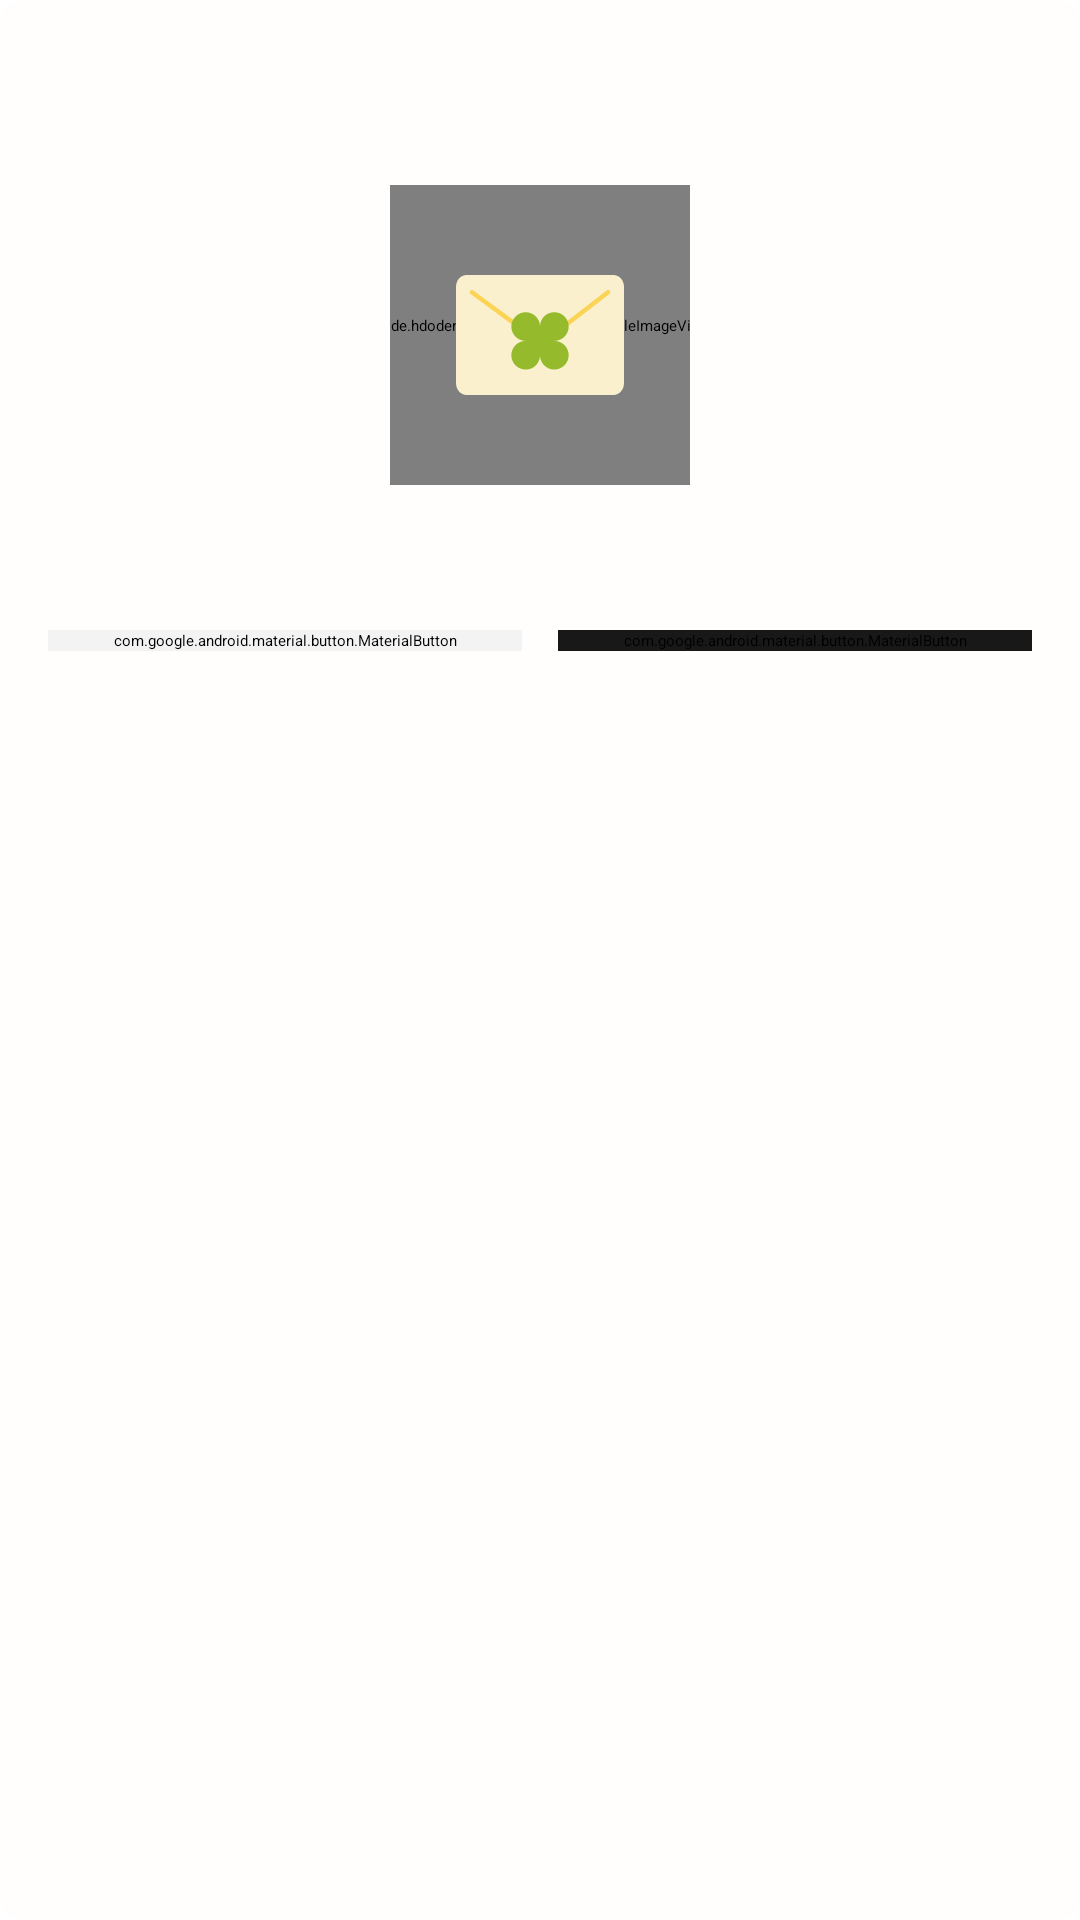

Point at icon controls on the screen. Image size 1080×1920, points as point (x, y).
letter: point (540, 335)
